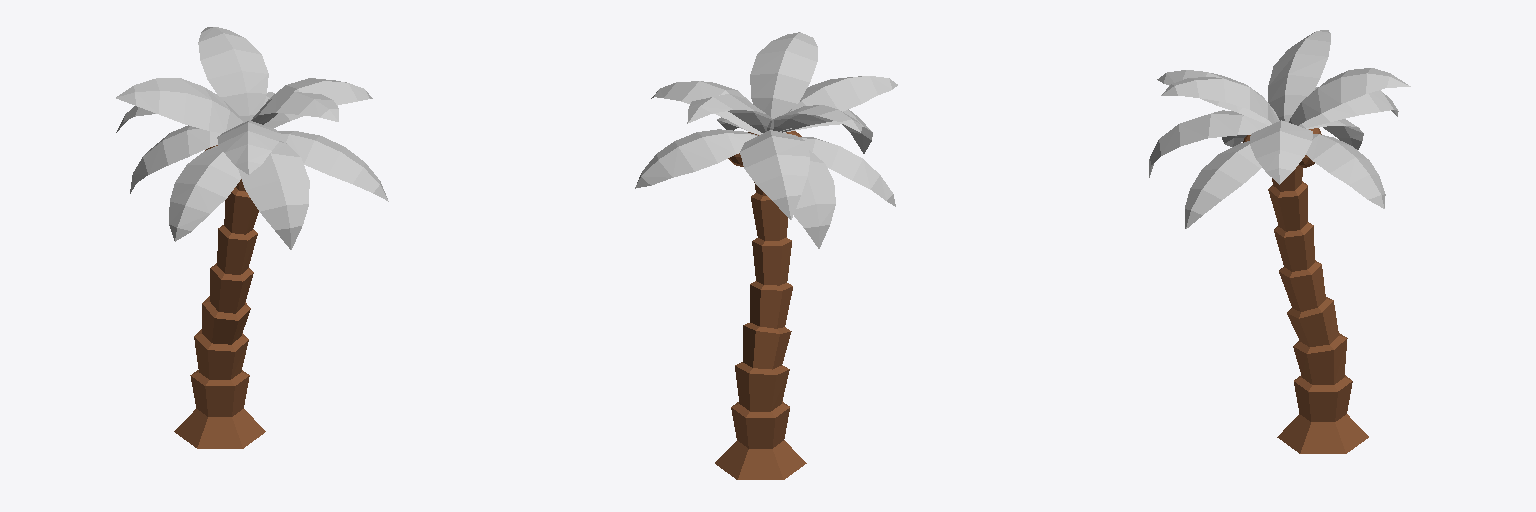
The model's file is Tree_Palm_6.obj.
The picture shows the model from 3 angles: view 1: azimuth 30°, elevation 25°; view 2: azimuth 150°, elevation 25°; view 3: azimuth 270°, elevation 25°; orthographic projection.
Visible parts, largest first — view 1: Cylinder.083_Cylinder.079, Cube.183_Cube.197, Cube.184_Cube.198, Cube.180_Cube.194, Cube.179_Cube.193, Cube.182_Cube.196, Cube.189_Cube.203, Cube.186_Cube.200, Cube.181_Cube.195, Cube.187_Cube.201; view 2: Cylinder.083_Cylinder.079, Cube.181_Cube.195, Cube.188_Cube.202, Cube.185_Cube.199, Cube.189_Cube.203, Cube.186_Cube.200, Cube.179_Cube.193, Cube.183_Cube.197, Cube.187_Cube.201, Cube.180_Cube.194, Cube.184_Cube.198; view 3: Cylinder.083_Cylinder.079, Cube.180_Cube.194, Cube.182_Cube.196, Cube.185_Cube.199, Cube.183_Cube.197, Cube.187_Cube.201, Cube.184_Cube.198, Cube.181_Cube.195, Cube.188_Cube.202, Cube.186_Cube.200, Cube.189_Cube.203.
Part boxes in pixels (bbox=[...]): Cylinder.083_Cylinder.079: bbox=[174, 179, 265, 448]; Cube.183_Cube.197: bbox=[198, 27, 268, 122]; Cube.184_Cube.198: bbox=[238, 141, 309, 249]; Cube.180_Cube.194: bbox=[116, 78, 243, 132]; Cube.179_Cube.193: bbox=[169, 146, 240, 241]; Cube.182_Cube.196: bbox=[278, 131, 388, 201]; Cube.189_Cube.203: bbox=[130, 125, 221, 193]; Cube.186_Cube.200: bbox=[217, 120, 280, 174]; Cube.181_Cube.195: bbox=[251, 92, 338, 124]; Cube.187_Cube.201: bbox=[264, 78, 372, 127]; Cylinder.083_Cylinder.079: bbox=[715, 182, 806, 479]; Cube.181_Cube.195: bbox=[750, 32, 817, 118]; Cube.188_Cube.202: bbox=[740, 130, 809, 219]; Cube.185_Cube.199: bbox=[635, 129, 757, 188]; Cube.189_Cube.203: bbox=[794, 150, 835, 248]; Cube.186_Cube.200: bbox=[780, 76, 897, 131]; Cube.179_Cube.193: bbox=[800, 137, 895, 206]; Cube.183_Cube.197: bbox=[687, 94, 773, 132]; Cube.187_Cube.201: bbox=[651, 81, 762, 134]; Cube.180_Cube.194: bbox=[767, 105, 861, 132]; Cube.184_Cube.198: bbox=[783, 109, 872, 153]; Cylinder.083_Cylinder.079: bbox=[1268, 166, 1368, 453]; Cube.180_Cube.194: bbox=[1268, 30, 1330, 122]; Cube.182_Cube.196: bbox=[1185, 141, 1261, 228]; Cube.185_Cube.199: bbox=[1306, 134, 1385, 208]; Cube.183_Cube.197: bbox=[1289, 68, 1410, 125]; Cube.187_Cube.201: bbox=[1250, 120, 1312, 184]; Cube.184_Cube.198: bbox=[1149, 110, 1268, 177]; Cube.181_Cube.195: bbox=[1161, 77, 1278, 123]; Cube.188_Cube.202: bbox=[1299, 87, 1398, 127]; Cube.186_Cube.200: bbox=[1157, 70, 1279, 125]; Cube.189_Cube.203: bbox=[1306, 119, 1363, 149].
Bounding box in the file's own units: 2.37 × 3.63 × 2.3.